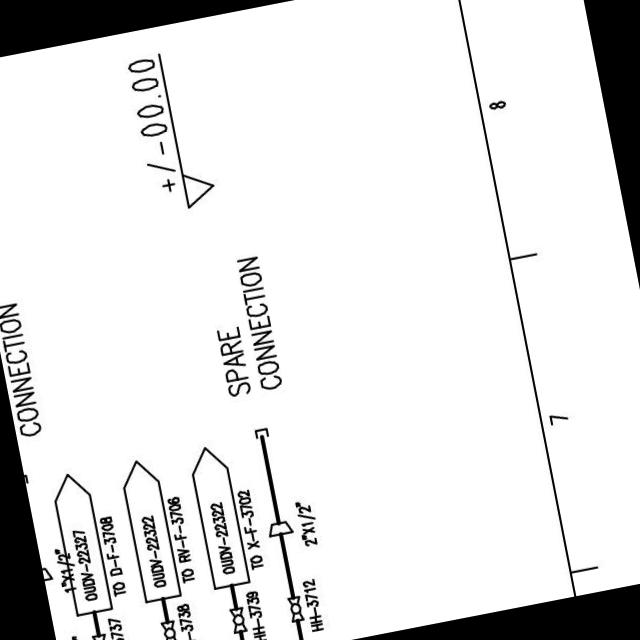BV2: (284, 590, 306, 626), (226, 604, 248, 638), (155, 616, 181, 640), (87, 630, 113, 640)
EC: (250, 424, 276, 458)
SP: (263, 516, 293, 542)
